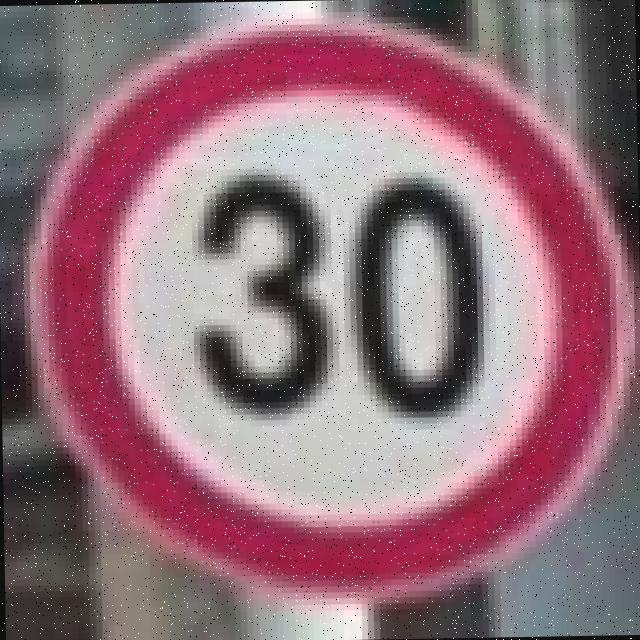Ograniczenie predkosci do 30: (19, 13, 627, 603)
